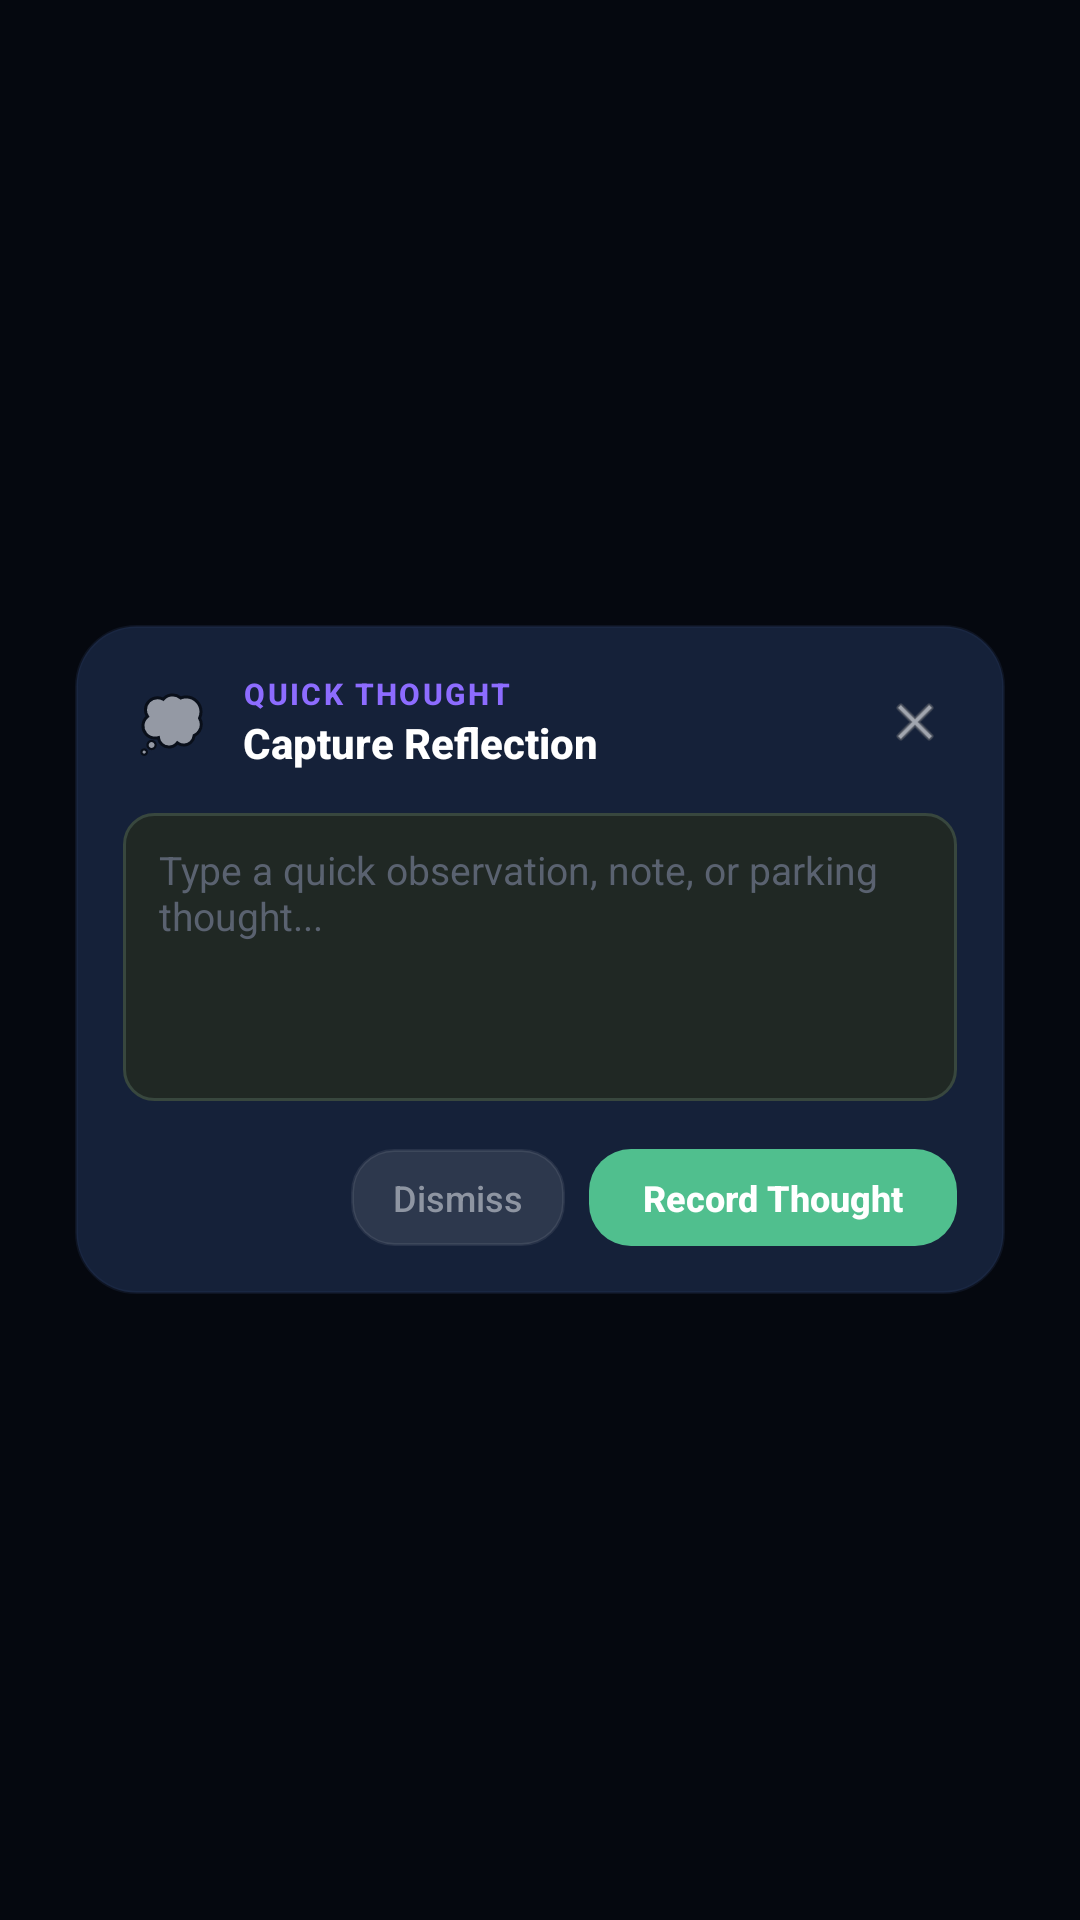

Where icons sit on this 1080*1920 app screen, as [left=x1, top=y1, right=x2, bottom=y2]:
close clear cancel: [left=897, top=704, right=933, bottom=740]
